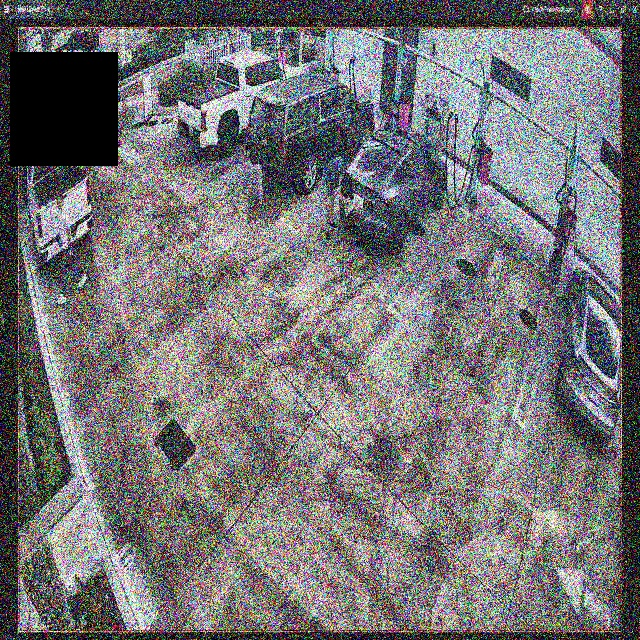Car: (249, 74, 374, 193), (342, 124, 446, 257), (180, 54, 302, 158)
